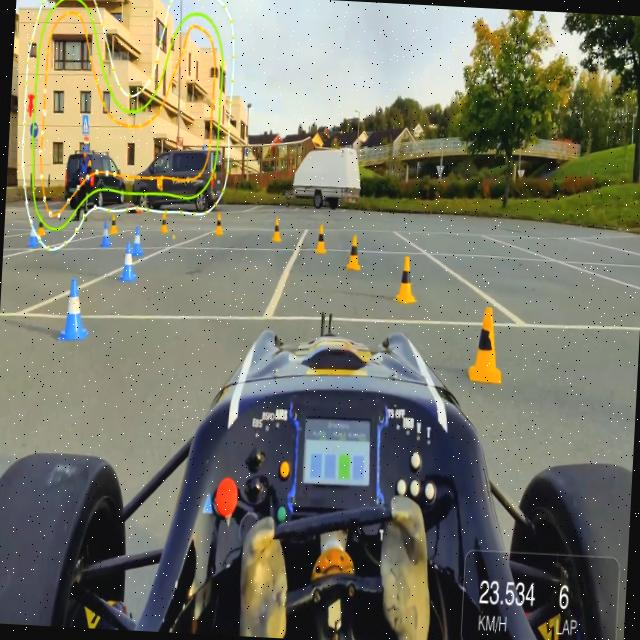blue_cone: (58, 275, 90, 343), (118, 242, 138, 284), (28, 215, 39, 249), (132, 227, 144, 256), (100, 222, 112, 248)
yellow_cone: (464, 300, 508, 390), (394, 252, 418, 308), (344, 232, 363, 274), (314, 220, 329, 256), (270, 216, 282, 246), (214, 211, 226, 237), (36, 213, 46, 240), (160, 212, 170, 235), (110, 215, 118, 233)
